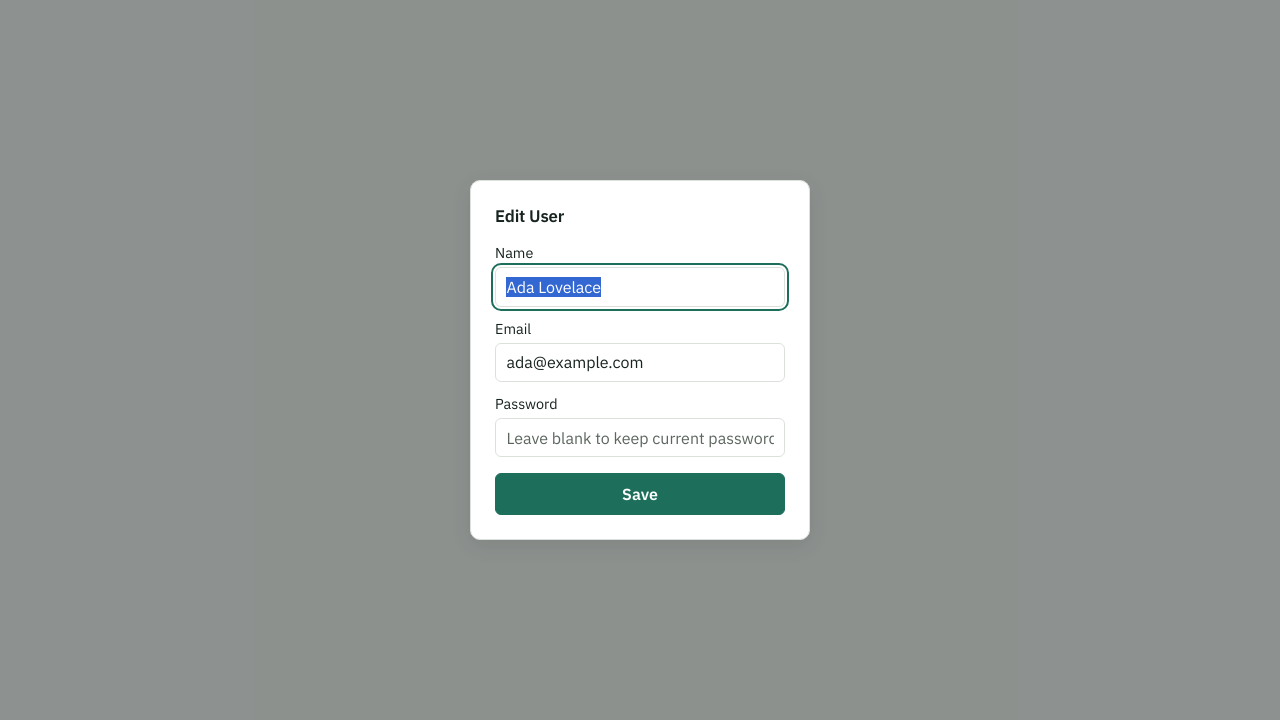
shows the server error and keeps the modal open when the email is already taken
This screenshot has width=1280, height=720.
Click the button "Save" at coordinates (640, 494), box [495,474,785,515]
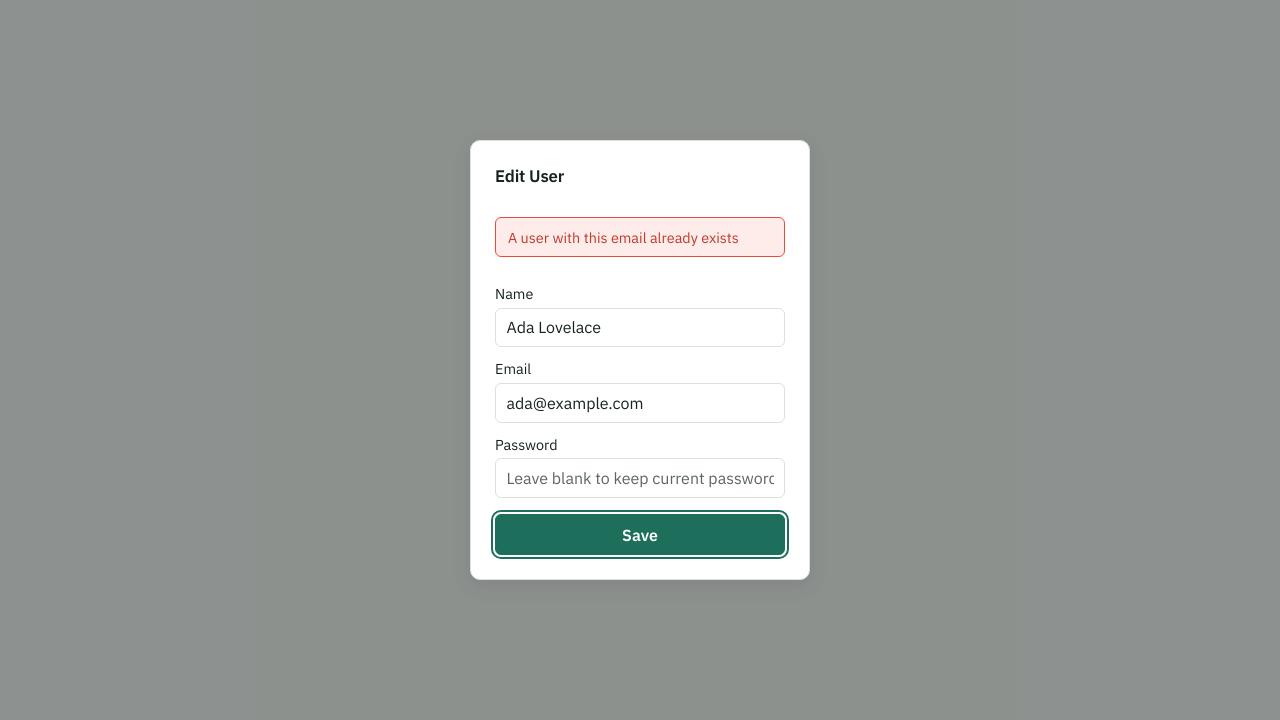
Result: the text "A user with this email already exists" is shown at [495,217,785,257]
